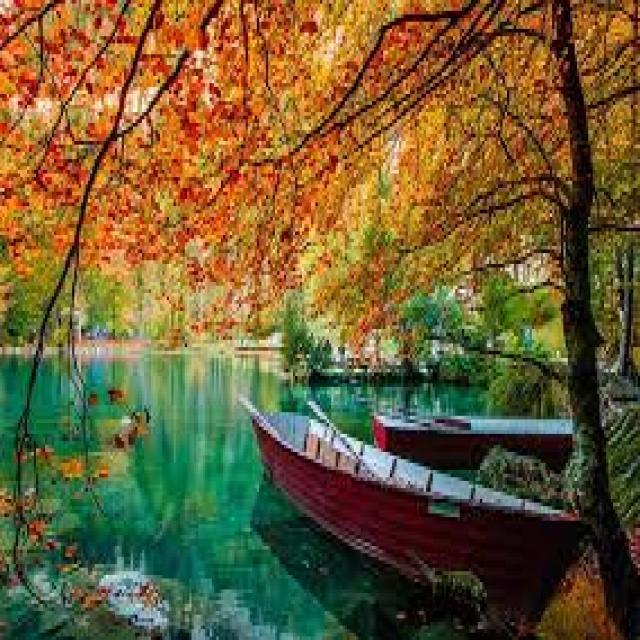ship2: (251, 417, 589, 639)
